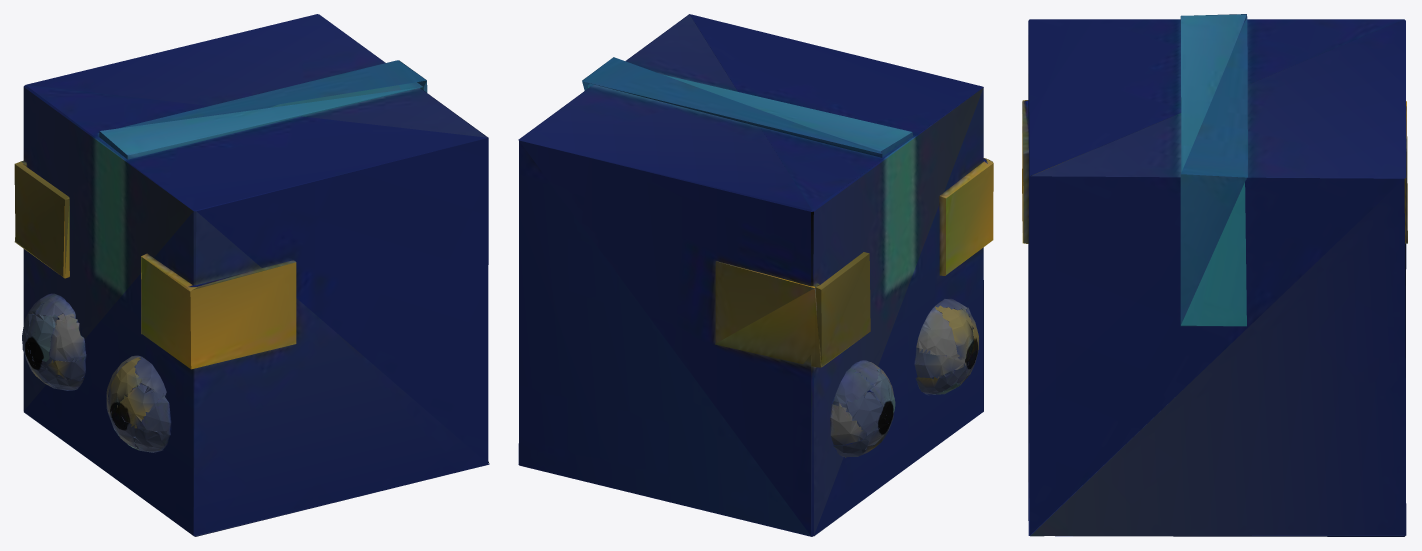
File: cube-crate.glb
3 views of the same model, side by side, from view 1: azimuth 30°, elevation 25°; view 2: azimuth 150°, elevation 25°; view 3: azimuth 270°, elevation 25° (orthographic). The views are drawn at different scales.
Parts seen in each view (by area): view 1: tripo_node_3be9d705-db69-4b03-9677-bb6118568ff7; view 2: tripo_node_3be9d705-db69-4b03-9677-bb6118568ff7; view 3: tripo_node_3be9d705-db69-4b03-9677-bb6118568ff7.
Part boxes in pixels (<box>): tripo_node_3be9d705-db69-4b03-9677-bb6118568ff7: <box>14,14,489,536</box>; tripo_node_3be9d705-db69-4b03-9677-bb6118568ff7: <box>518,14,993,536</box>; tripo_node_3be9d705-db69-4b03-9677-bb6118568ff7: <box>1022,14,1407,536</box>.
Size of the model in its own units: 0.9994 by 0.9445 by 0.8998.
Materials: 1 (1 with a texture image).
